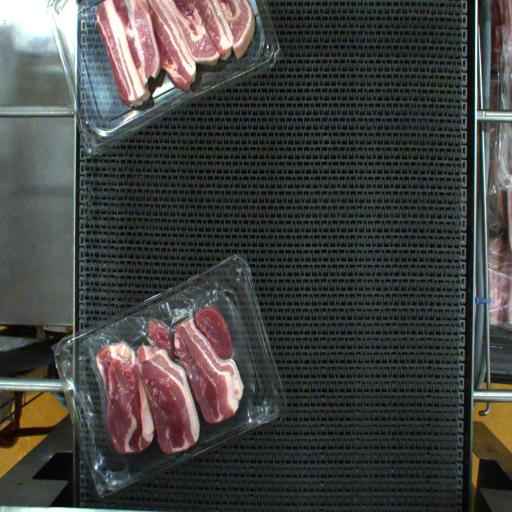unsealed: (72, 276, 237, 460)
